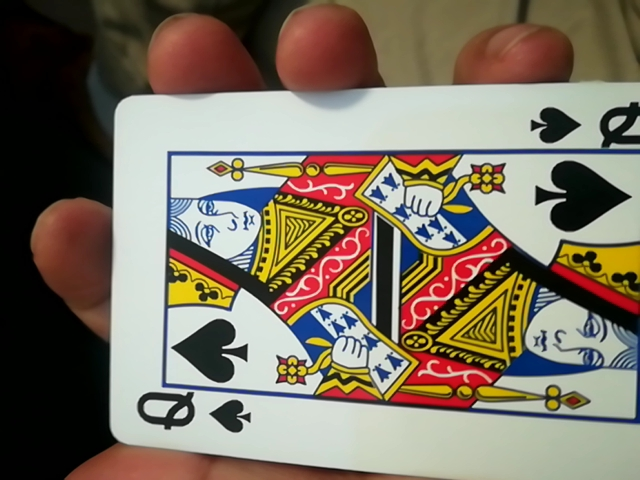ht q: (94, 79, 636, 478)
